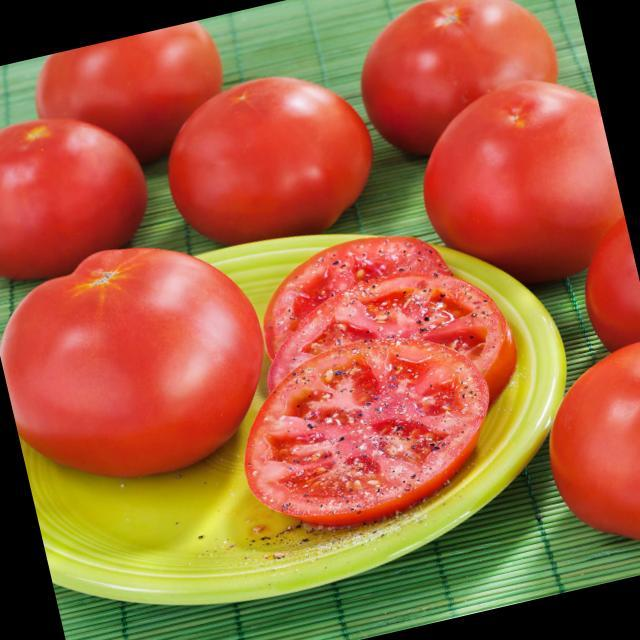TOMATO: (0, 220, 276, 499), (226, 314, 510, 538), (406, 70, 630, 284), (152, 59, 386, 259), (256, 252, 516, 426), (349, 0, 568, 146), (30, 20, 223, 166), (0, 96, 151, 273), (527, 335, 640, 564), (262, 217, 460, 333), (559, 215, 640, 354)
